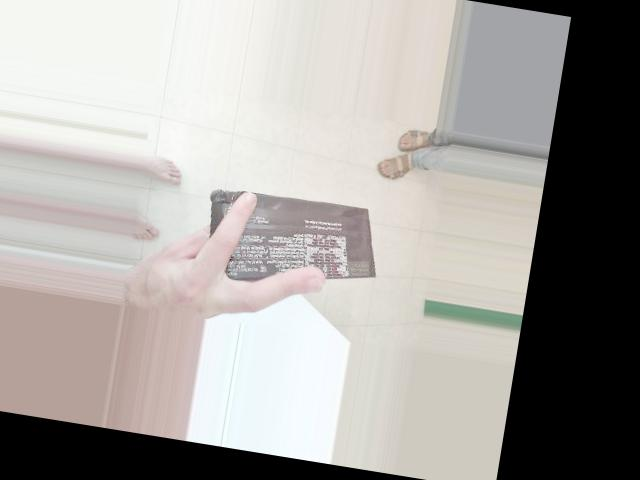chocolate: (236, 93, 372, 290)
